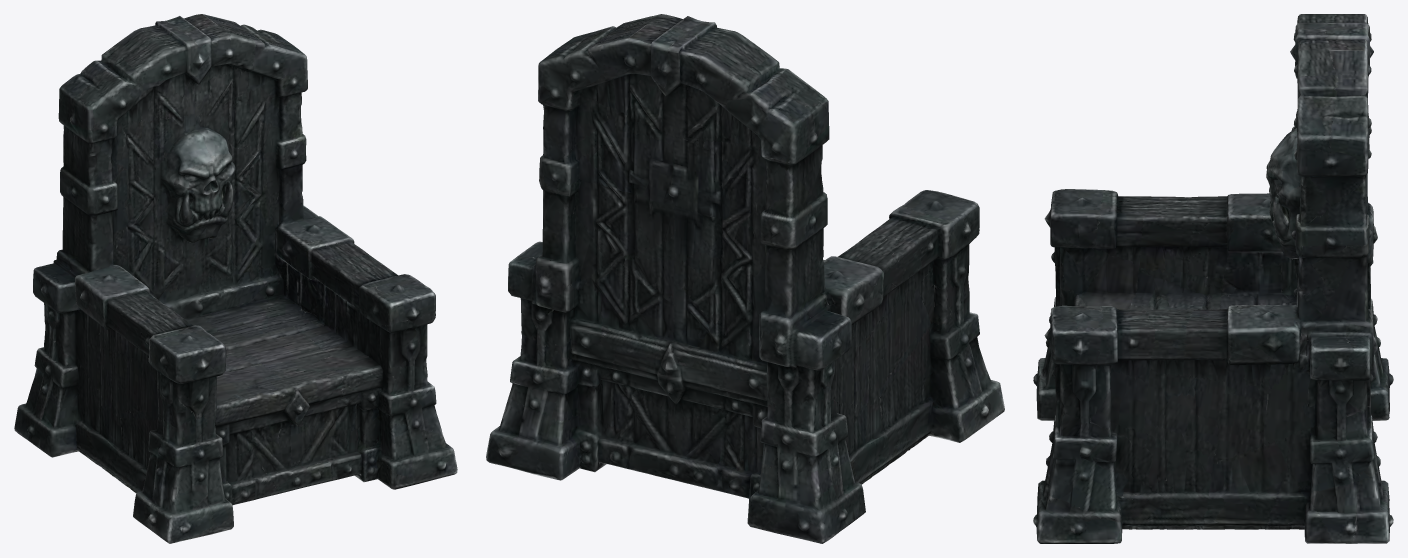
Rendered from iron chair.glb.
3 renders of one model, left to right at view 1: azimuth 30°, elevation 25°; view 2: azimuth 150°, elevation 25°; view 3: azimuth 270°, elevation 25°, orthographic. The views are drawn at different scales.
Bounding box in the file's own units: 1.52 × 1.9 × 1.42.
Materials: 1 (1 with a texture image).
